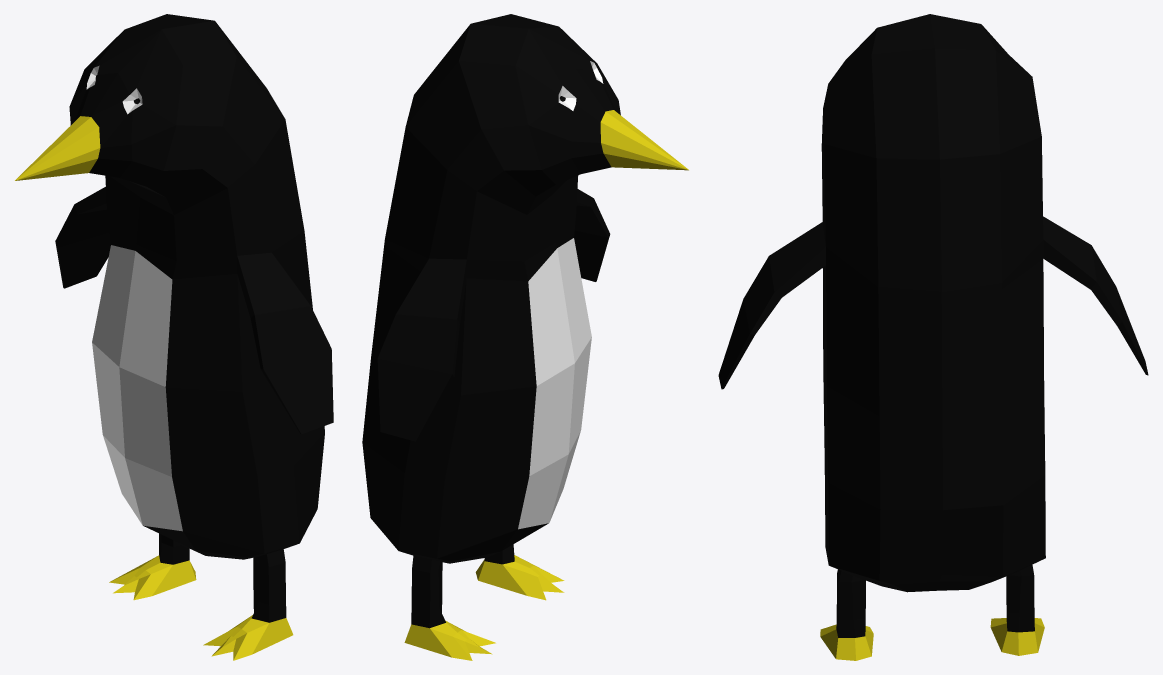
File: Penguin_V1.FBX
3 views of the same model, side by side, from view 1: azimuth 30°, elevation 25°; view 2: azimuth 150°, elevation 25°; view 3: azimuth 270°, elevation 25° (orthographic).
Parts seen in each view (by area): view 1: Cylinder002; view 2: Cylinder002; view 3: Cylinder002.
Boxes of the visible parts, x1,y1,x2,y2 form: Cylinder002: (15, 14, 333, 660); Cylinder002: (362, 14, 688, 660); Cylinder002: (718, 14, 1148, 660).
Bounding box in the file's own units: 31.8 × 60.82 × 38.99.
